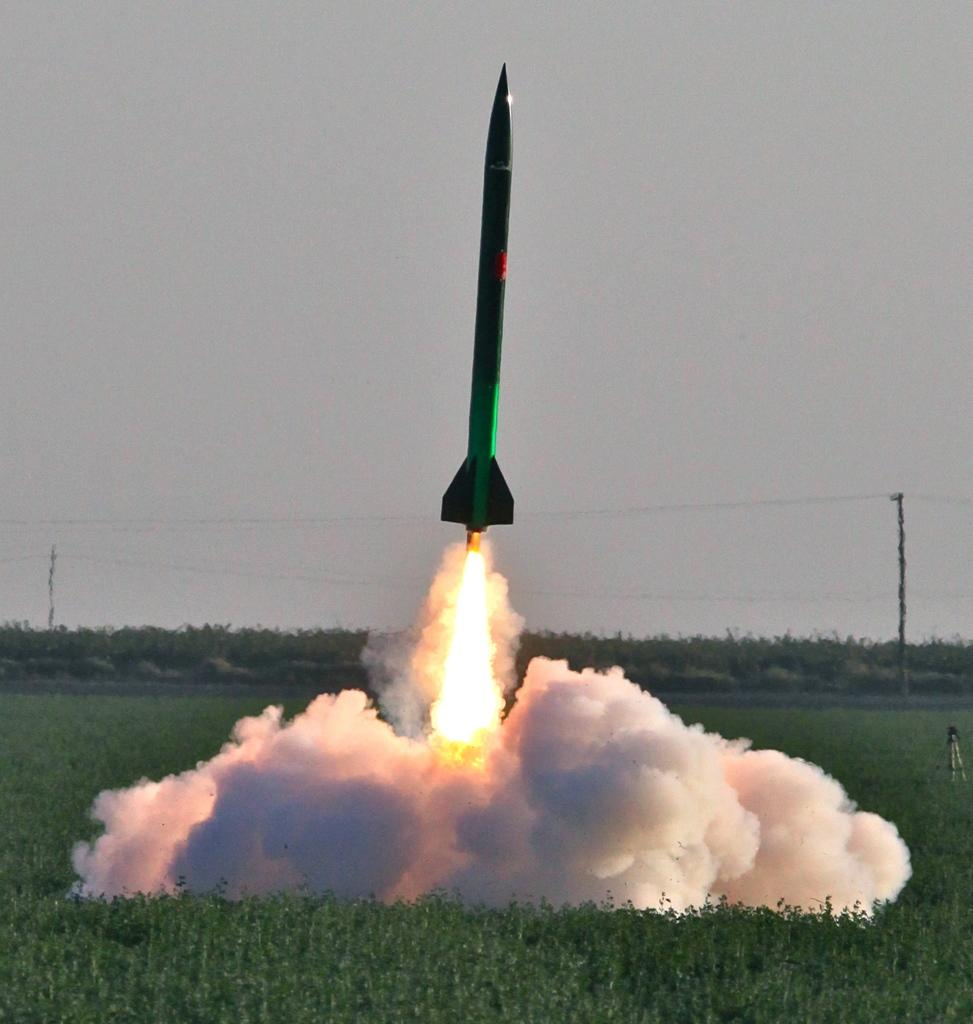Missile: (437, 56, 517, 537)
